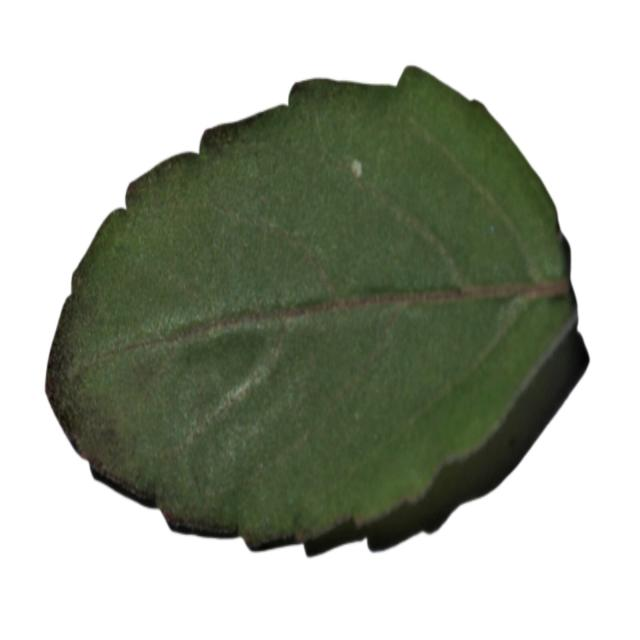tulsi: (40, 61, 587, 562)
